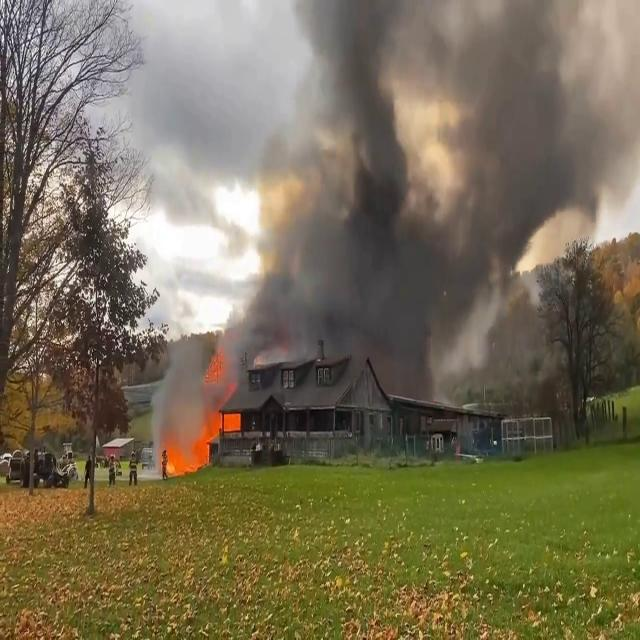Fire: (157, 418, 227, 478)
Smoke: (222, 0, 636, 369), (144, 332, 198, 468)
